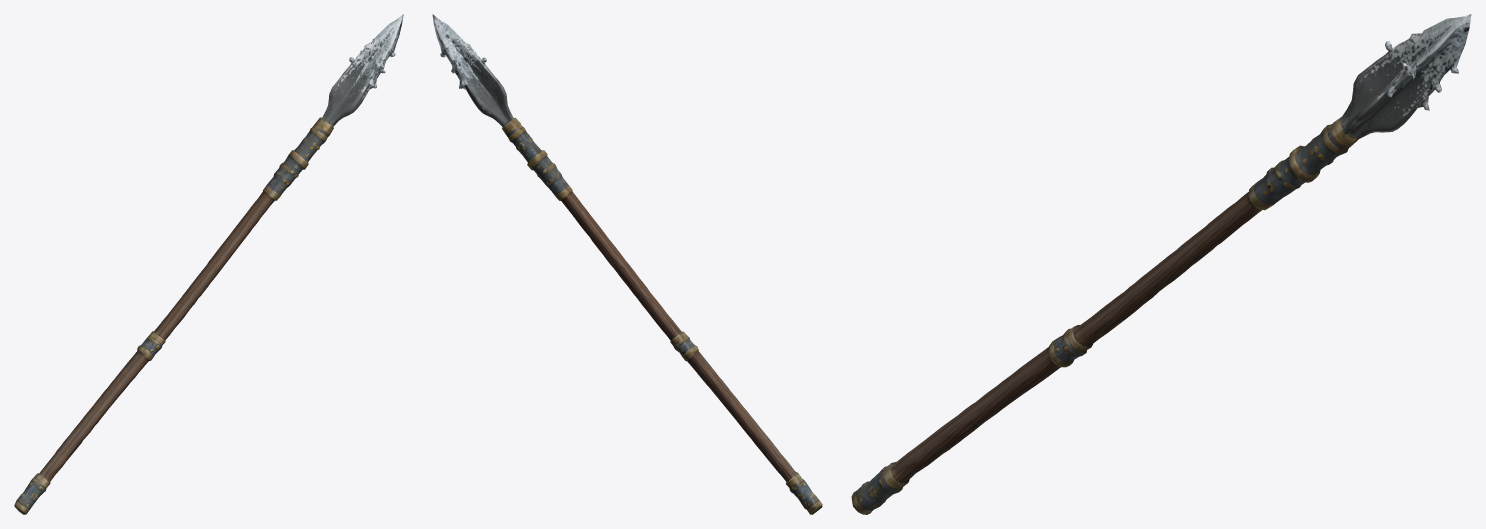
The model's file is PR_Weapon_Chang.fbx.
3 renders of one model, left to right at view 1: azimuth 30°, elevation 25°; view 2: azimuth 150°, elevation 25°; view 3: azimuth 330°, elevation 25°, orthographic. The views are drawn at different scales.
Parts seen in each view (by area): view 1: texture_mapping; view 2: texture_mapping; view 3: texture_mapping.
Part boxes in pixels (x1=…): texture_mapping: x1=14, y1=14, x2=403, y2=514; texture_mapping: x1=432, y1=14, x2=822, y2=514; texture_mapping: x1=851, y1=14, x2=1471, y2=514.
Size of the model in its own units: 0.9999 by 0.0998 by 1.
Materials: 1 (1 with a texture image).
